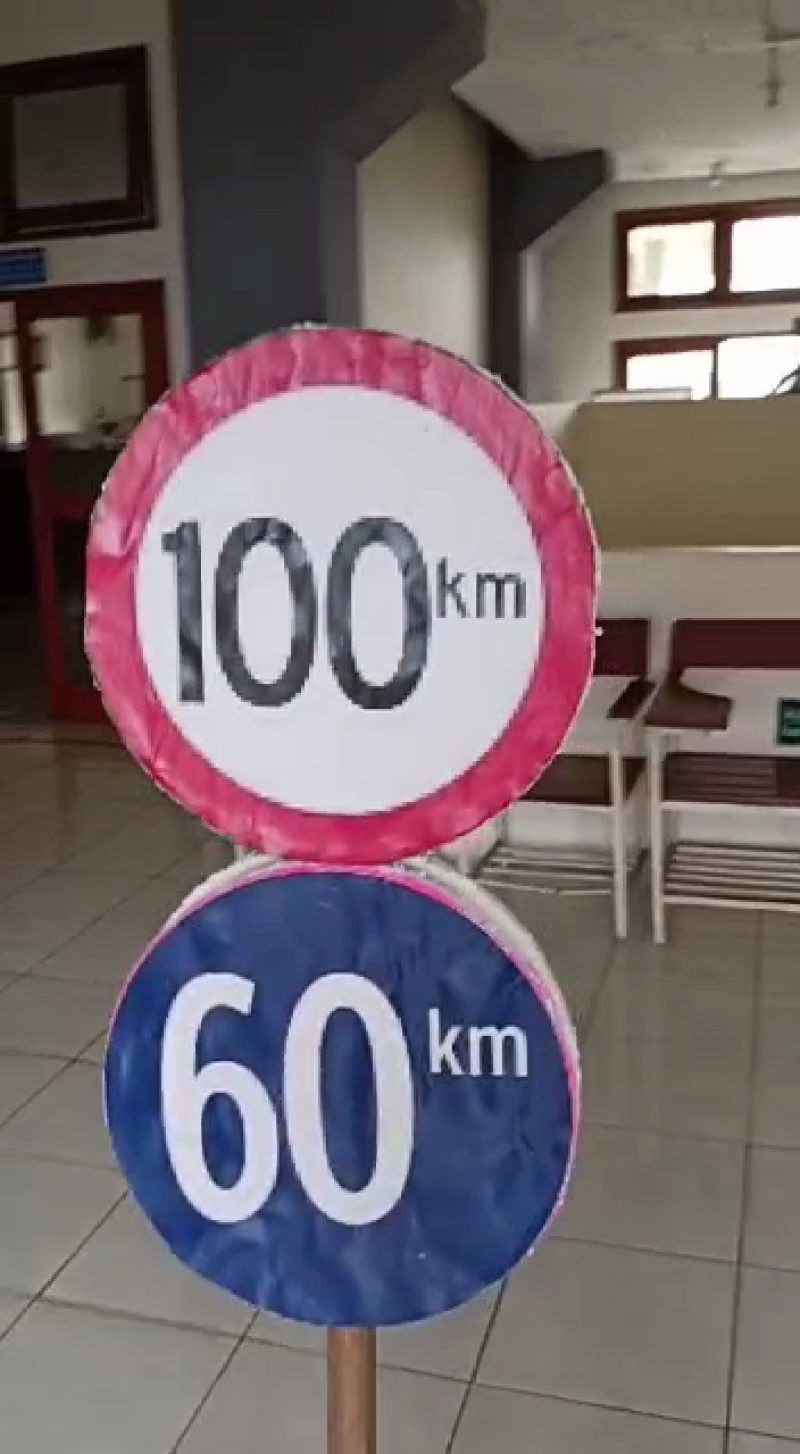batas maksimal 100kmperjam minimal 60kmperjam: (75, 309, 611, 1340)
